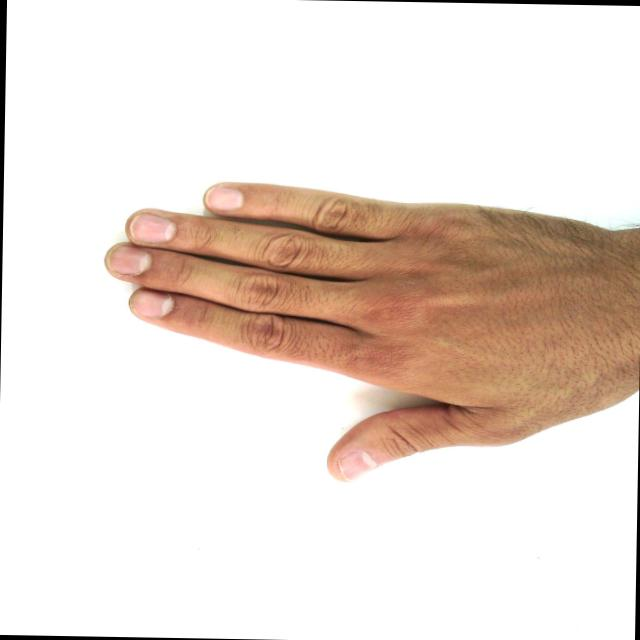Nail: (127, 211, 174, 242), (105, 245, 151, 276), (336, 450, 377, 484), (129, 288, 172, 319), (202, 185, 244, 212)
